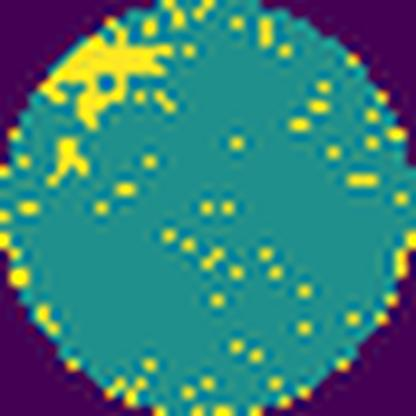Loc: (37, 21, 177, 128), (44, 135, 92, 186)
